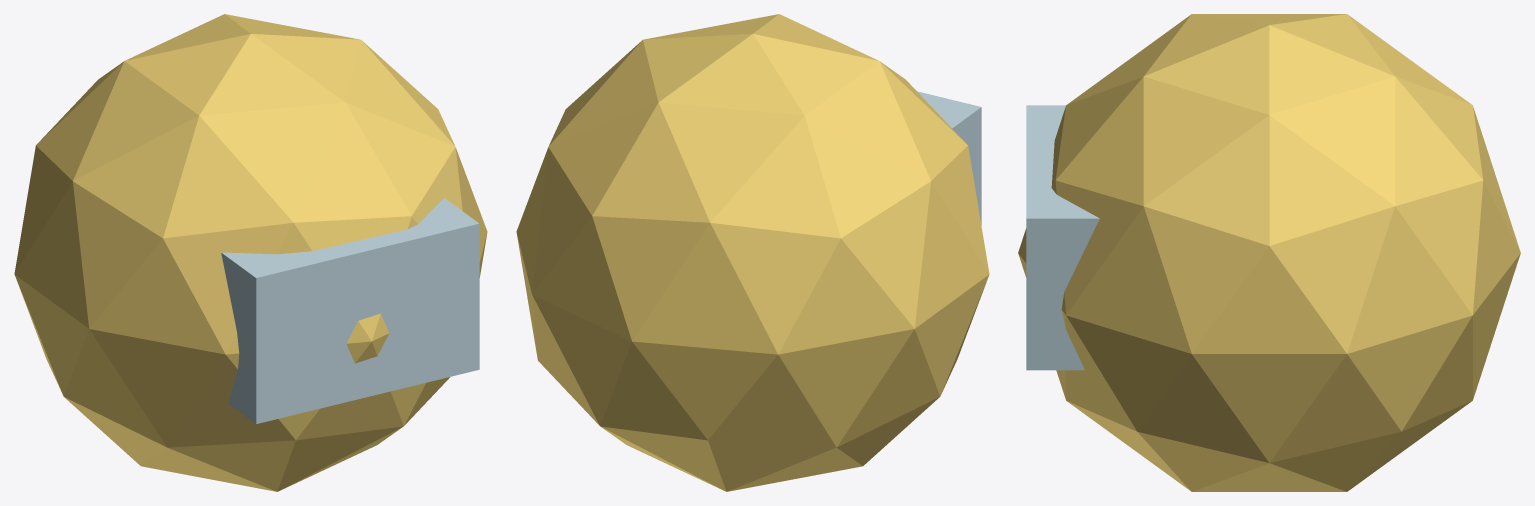
The model's file is SM_HazmatHelm.fbx.
The picture shows the model from 3 angles, left to right: view 1: azimuth 30°, elevation 25°; view 2: azimuth 150°, elevation 25°; view 3: azimuth 270°, elevation 25°; orthographic projection. The views are drawn at different scales.
Parts seen in each view (by area): view 1: SM_HazmatHelm; view 2: SM_HazmatHelm; view 3: SM_HazmatHelm.
Boxes of the visible parts, x1=… form: SM_HazmatHelm: x1=14, y1=14, x2=487, y2=491; SM_HazmatHelm: x1=516, y1=14, x2=989, y2=491; SM_HazmatHelm: x1=1018, y1=14, x2=1520, y2=491.
Bounding box in the file's own units: 2853 × 3000 × 3000.
